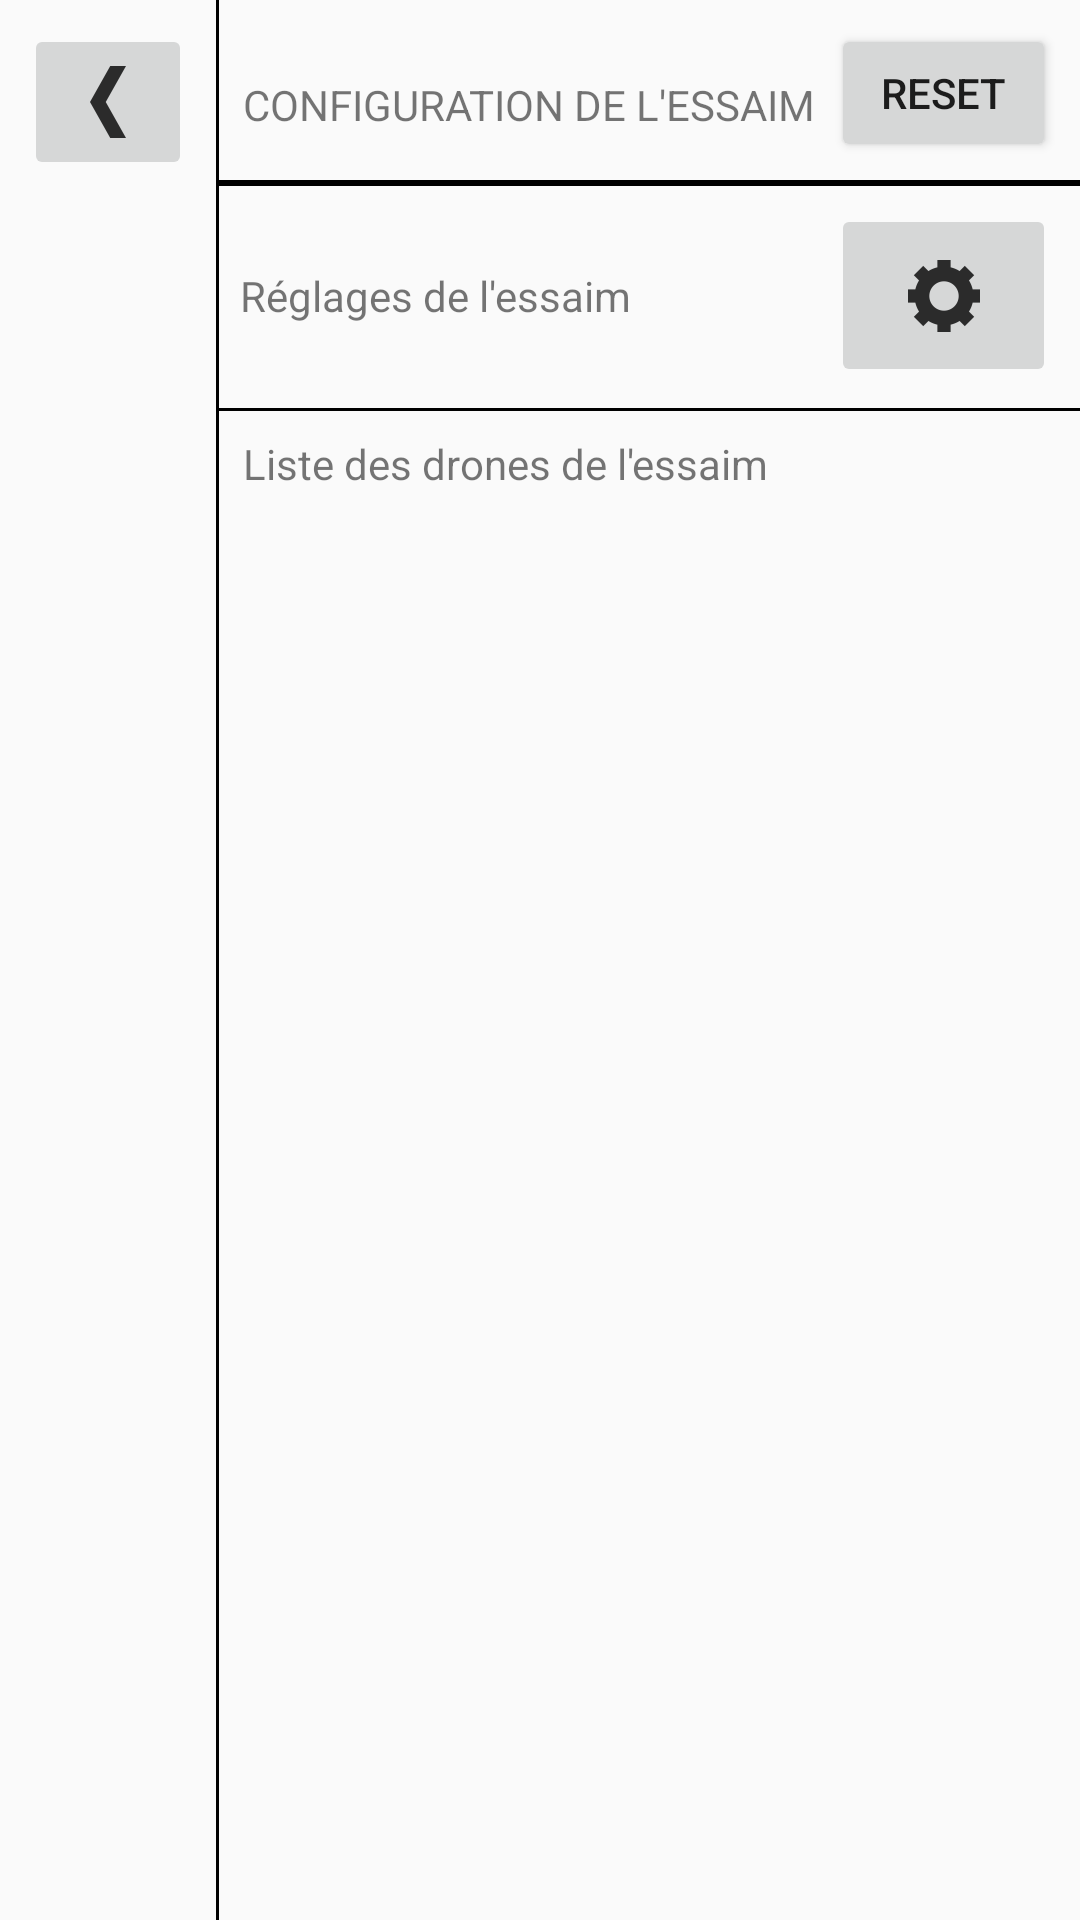

Screen size 1080px x 1920px. Icon name, then its center in pixels as (x,y):
bouton retour: (108,102)
bouton settings swarm: (943,295)
